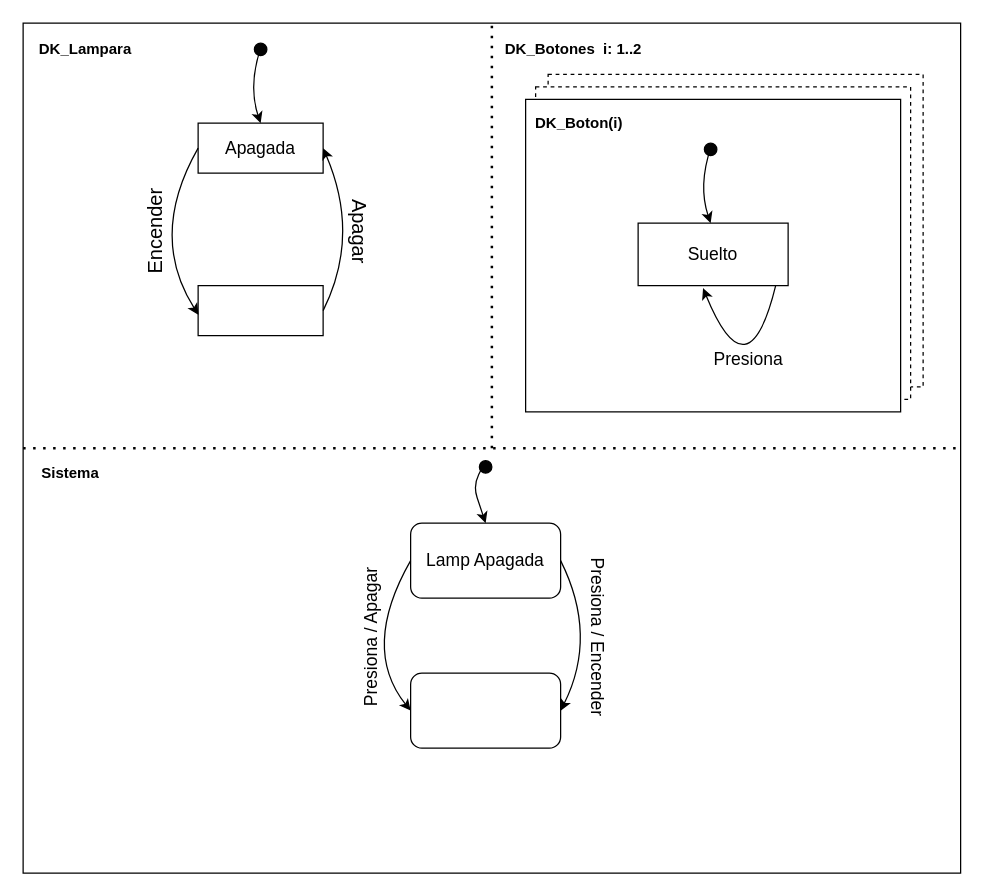
Image size: 984x895. Some labels were removed from this diagram. The centre of each missing label's shape, as x and y in pixels:
"Encendida" belongs at pixel 260 310.
"Lamp Prendida" belongs at pixel 485 710.
